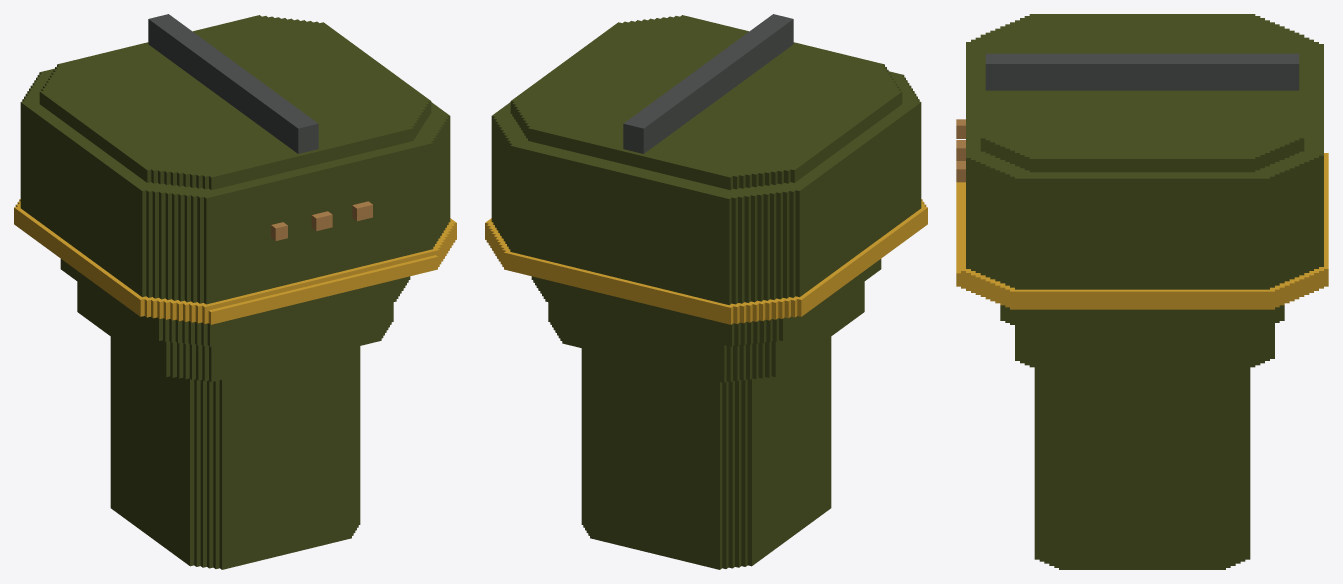
File: armor_trooper_worn_upper.glb
The picture shows the model from 3 angles, left to right: view 1: azimuth 30°, elevation 25°; view 2: azimuth 150°, elevation 25°; view 3: azimuth 270°, elevation 25°; orthographic projection. The views are drawn at different scales.
Visible parts, largest first — view 1: armor_trooper_worn_upper:compound; view 2: armor_trooper_worn_upper:compound; view 3: armor_trooper_worn_upper:compound.
Boxes of the visible parts, x1,y1,x2,y2 form: armor_trooper_worn_upper:compound: (14, 14, 456, 569); armor_trooper_worn_upper:compound: (485, 14, 927, 569); armor_trooper_worn_upper:compound: (956, 14, 1328, 569).
Size of the model in its own units: 0.312 by 0.42 by 0.304.
